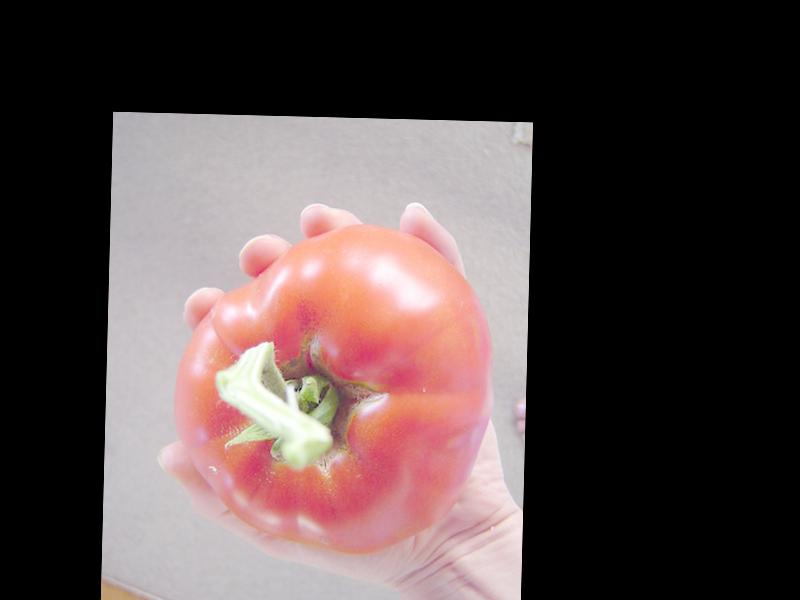Tomato: (169, 220, 495, 556)
